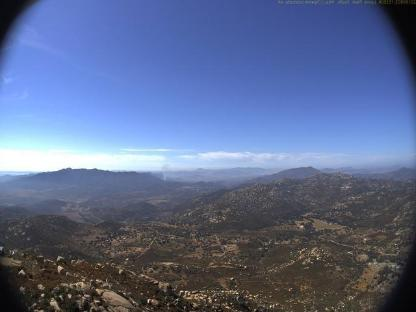smoke: (160, 158, 196, 182)
